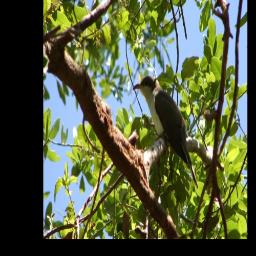Cuckoo: (131, 76, 197, 189)
